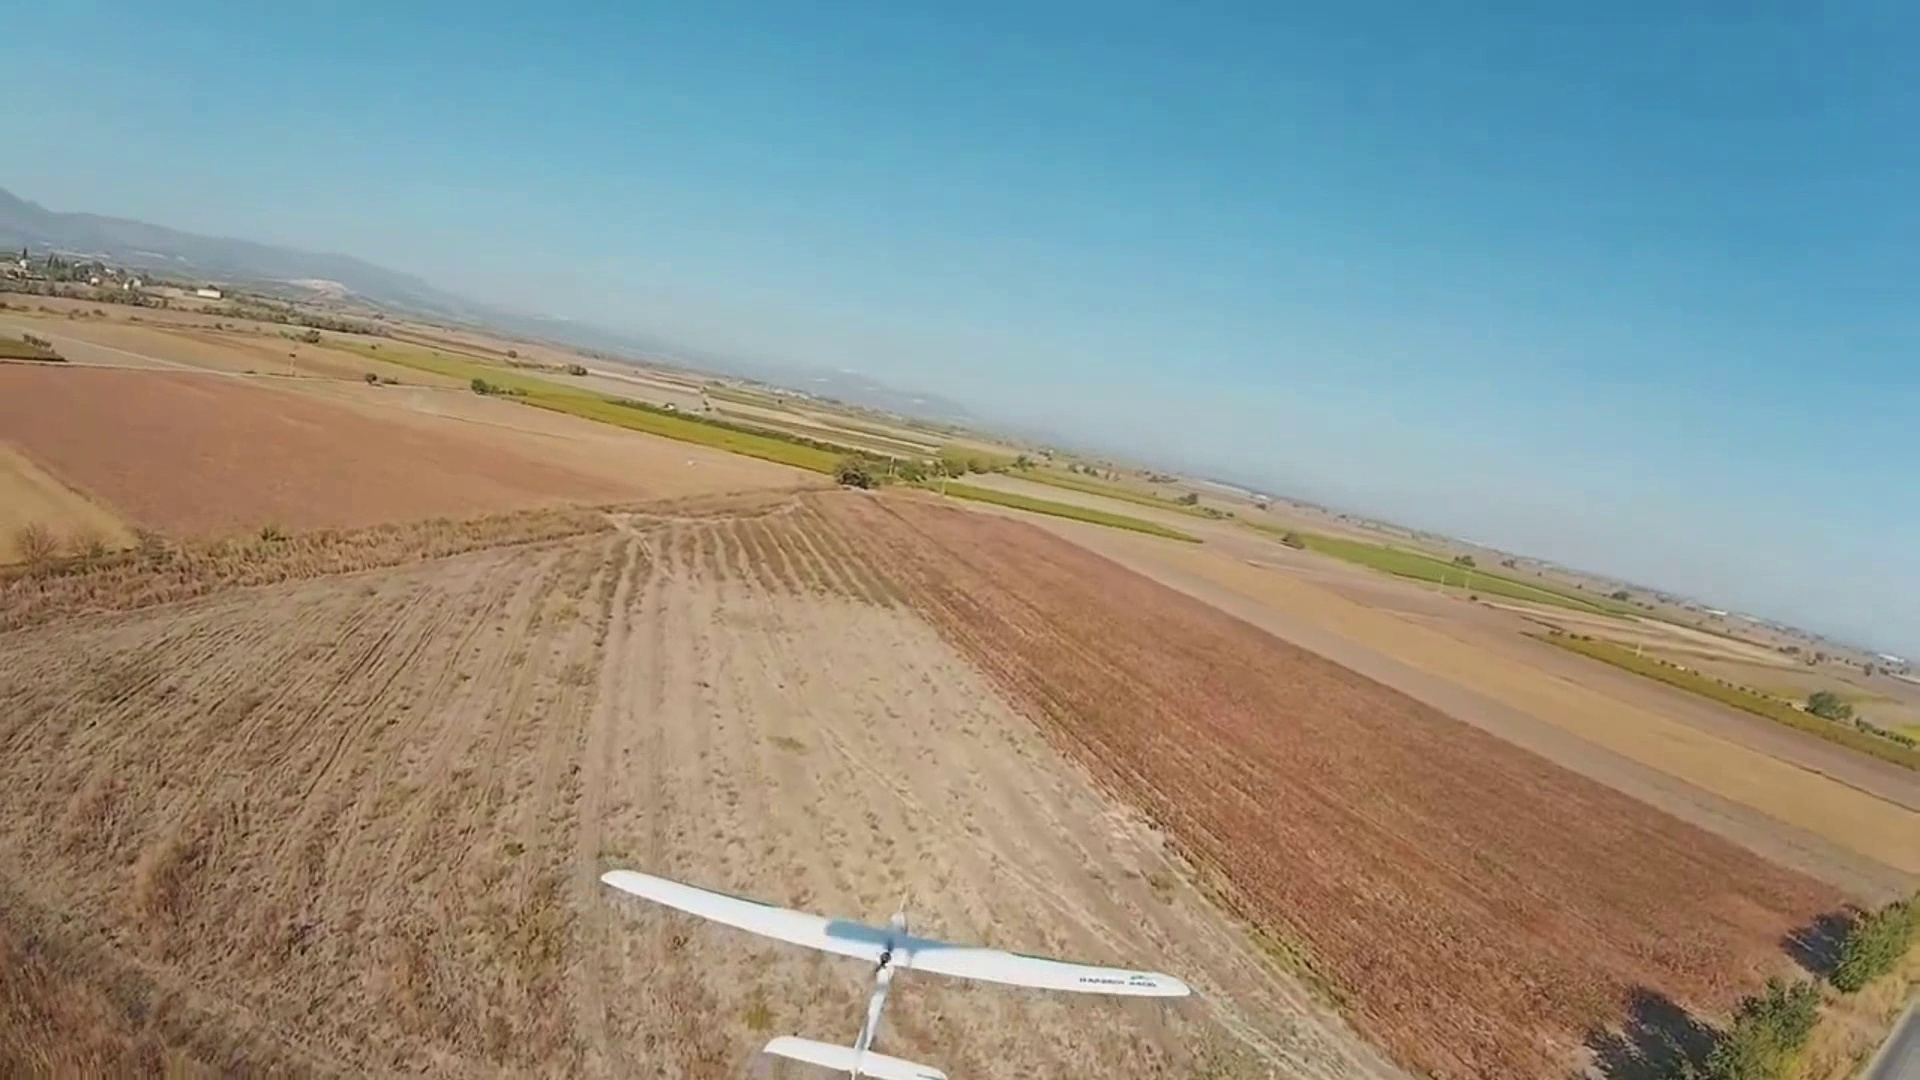airplane: (597, 862, 1193, 1072)
